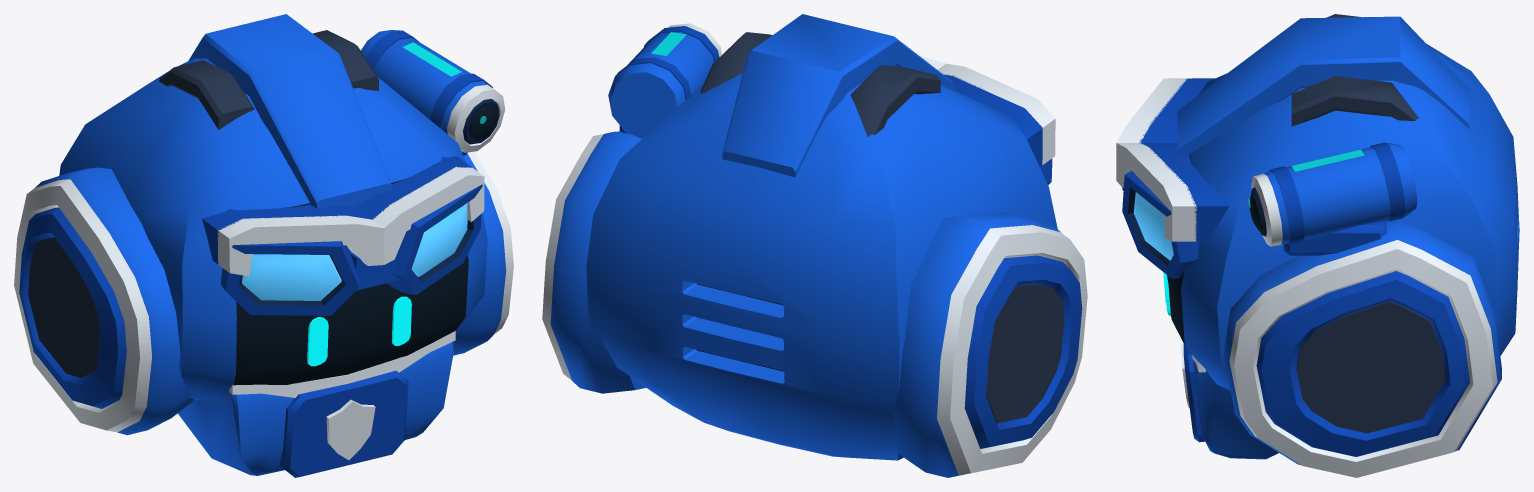
File: copilot_security_v01.glb
3 views of the same model, side by side, from view 1: azimuth 30°, elevation 25°; view 2: azimuth 150°, elevation 25°; view 3: azimuth 270°, elevation 25° (orthographic). The views are drawn at different scales.
Parts seen in each view (by area): view 1: security_model; view 2: security_model; view 3: security_model.
Part boxes in pixels (x1,y1,x2,y2): security_model: (14, 14, 513, 477); security_model: (542, 14, 1087, 477); security_model: (1116, 14, 1519, 477).
Bounding box in the file's own units: 2.61 × 2.34 × 2.23.
Materials: 2 (2 with a texture image).
